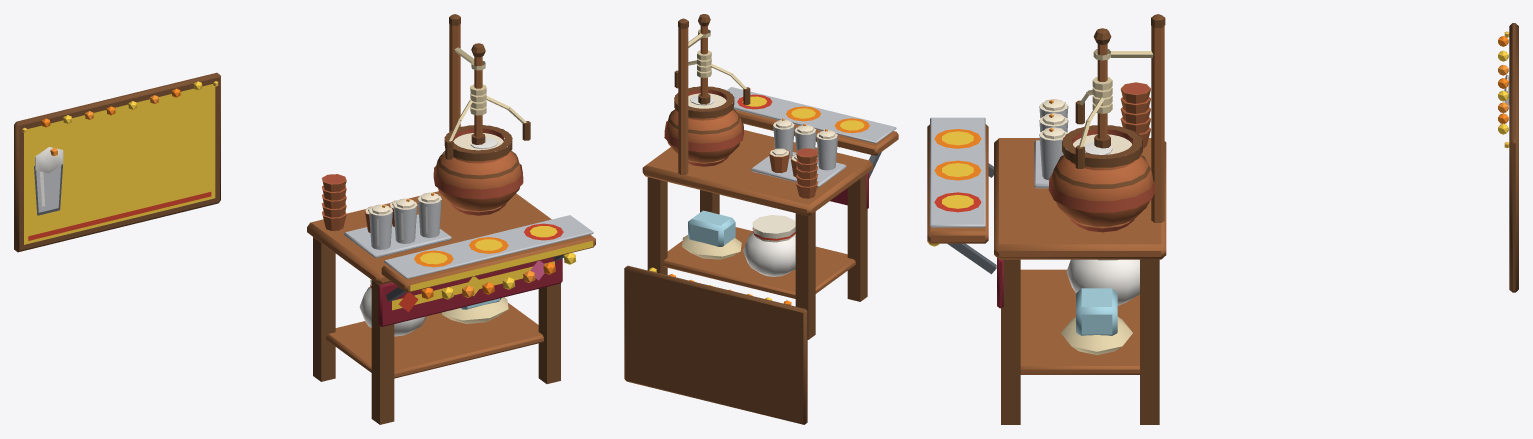
The model's file is lassi_station.glb.
3 views of the same model, side by side, from view 1: azimuth 30°, elevation 25°; view 2: azimuth 150°, elevation 25°; view 3: azimuth 270°, elevation 25° (orthographic). The views are drawn at different scales.
Visible parts, largest first — view 1: base, madhani; view 2: base, madhani; view 3: base, madhani.
Boxes of the visible parts, left/top/right/bottom form: base: left=14, top=14, right=595, bottom=424; madhani: left=470, top=43, right=486, bottom=144; base: left=624, top=18, right=898, bottom=424; madhani: left=697, top=14, right=711, bottom=104; base: left=927, top=14, right=1518, bottom=424; madhani: left=1092, top=28, right=1112, bottom=148.
Bounding box in the file's own units: 1.64 × 1.54 × 2.13.
1 material, 1 textured.
